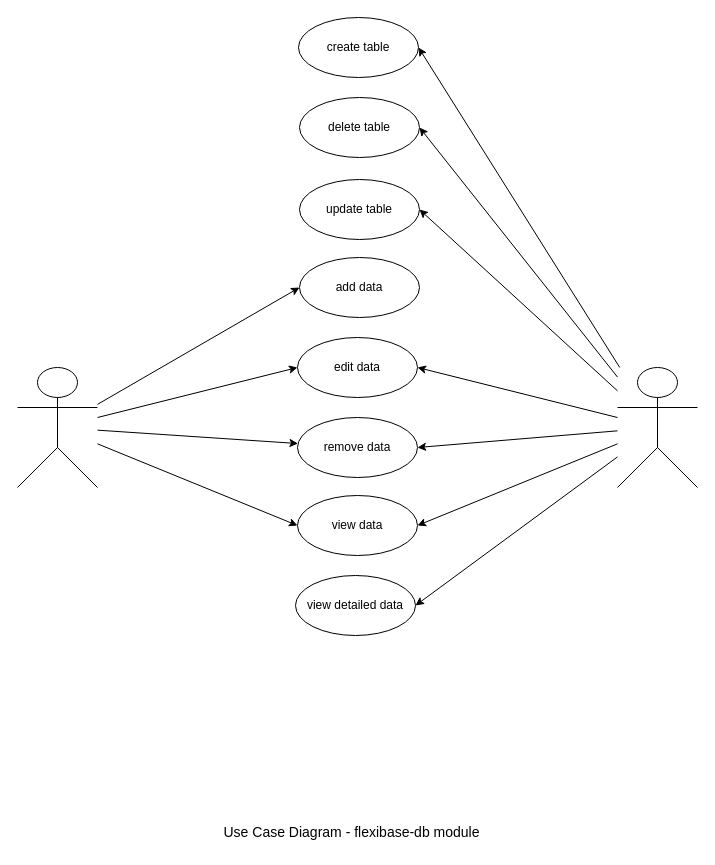
This 715x865 diagram has some shape labels left out. Each missing label, with the box of its shape:
Admin: (616, 366, 698, 488)
User: (16, 366, 98, 488)
